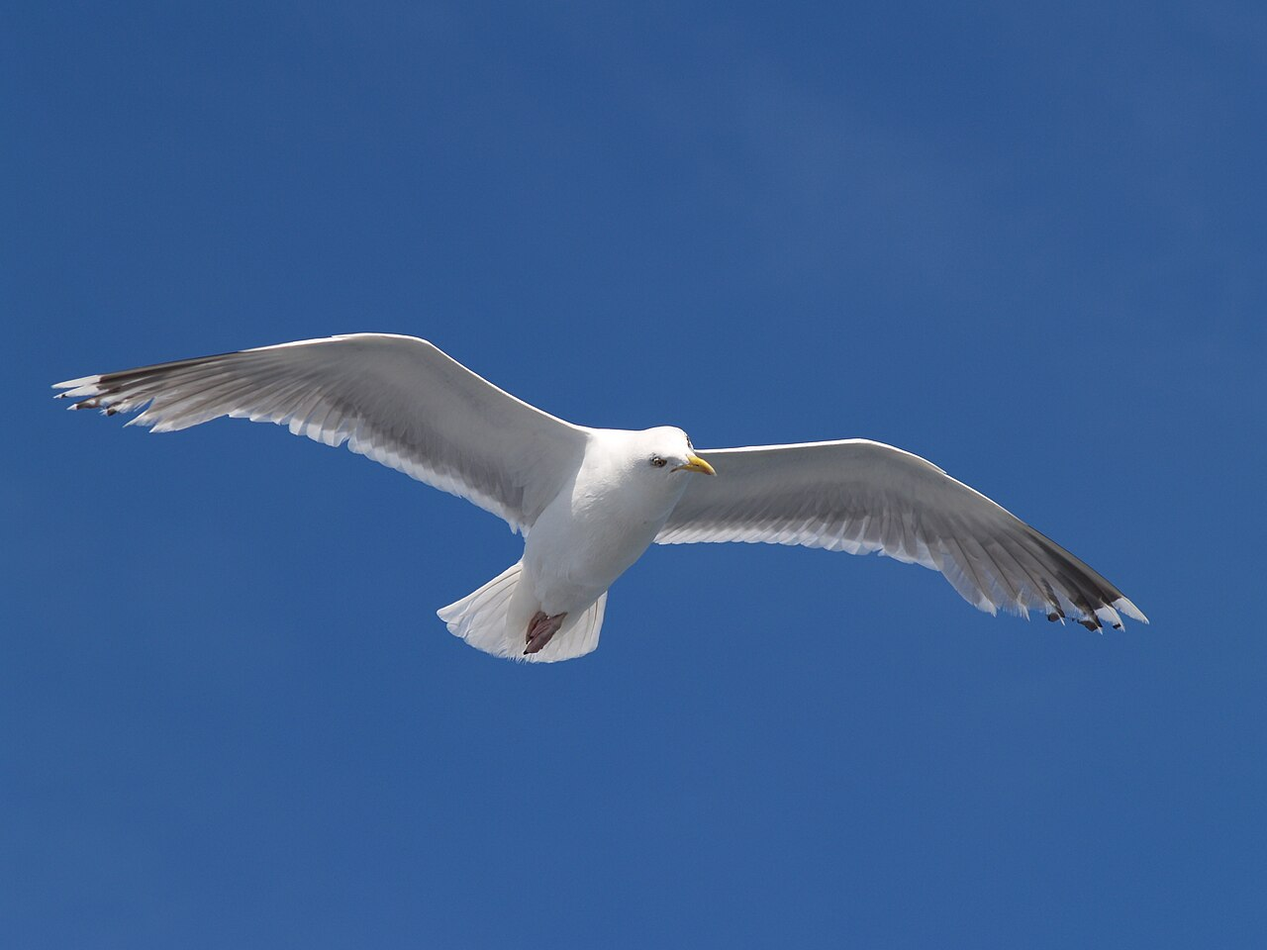bird: (48, 331, 1152, 663)
